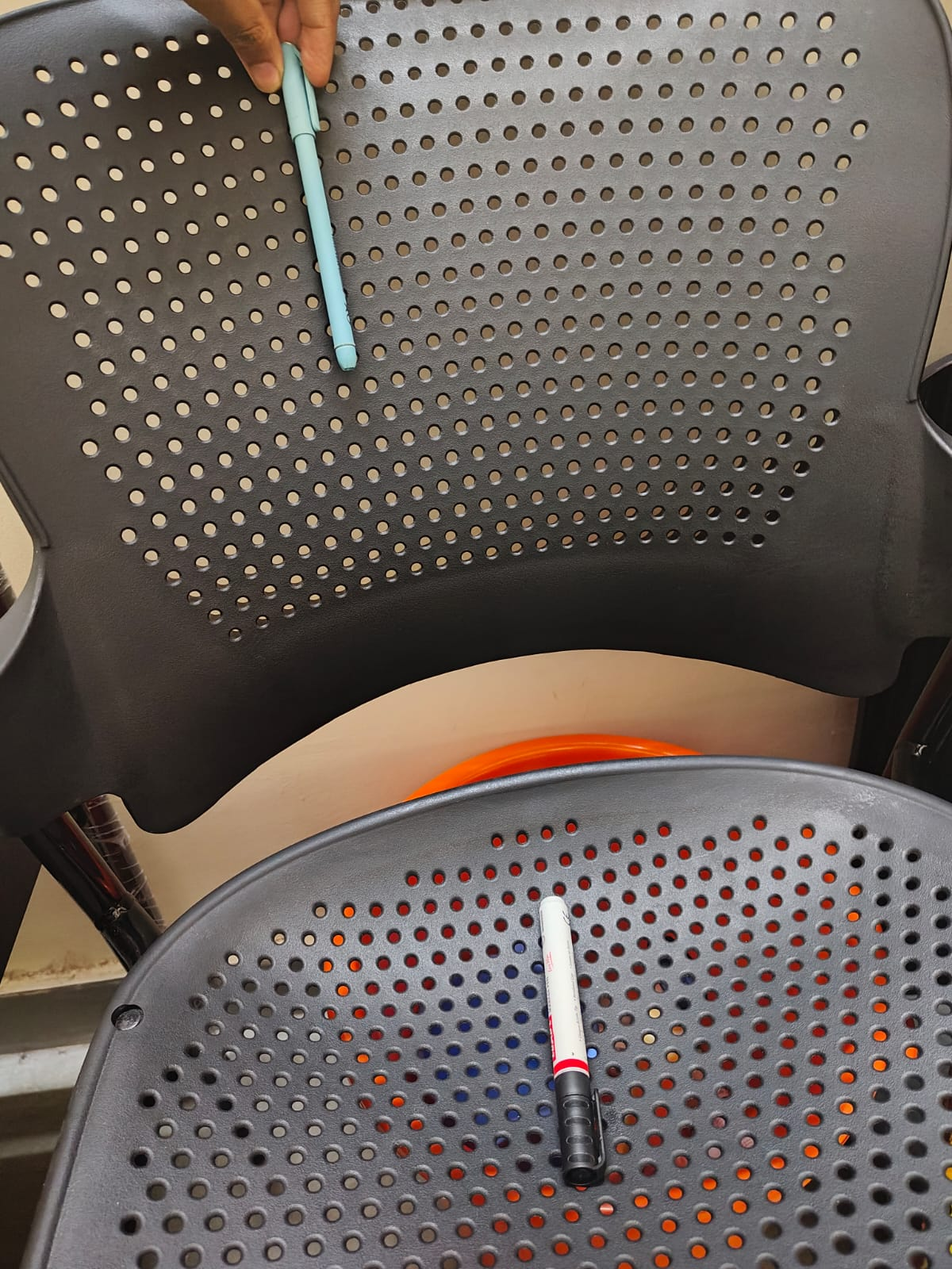case: (522, 900, 613, 1190)
pen: (266, 42, 359, 375)
